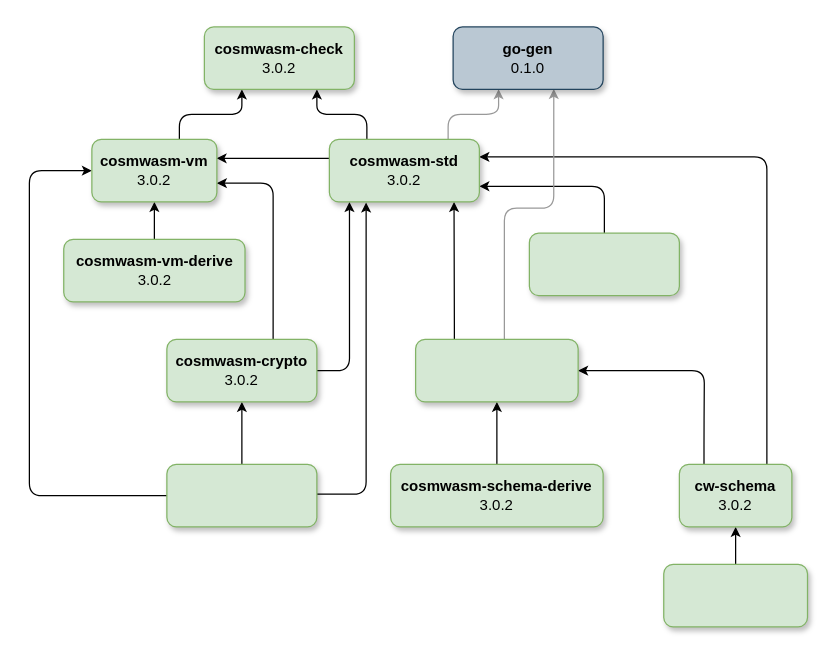
Image size: 838x658. Some labels were removed from this diagram. Each missing label, with the centre of its shape:
"cosmwasm-core 3.0.2" belongs at [242,497].
"cosmwasm-derive 3.0.2" belongs at [605,265].
"cosmwasm-schema 3.0.2" belongs at [497,372].
"cw-schema-derive 3.0.2" belongs at [736,597].
